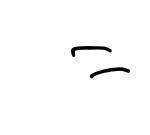eqv: (71, 46, 130, 78)
